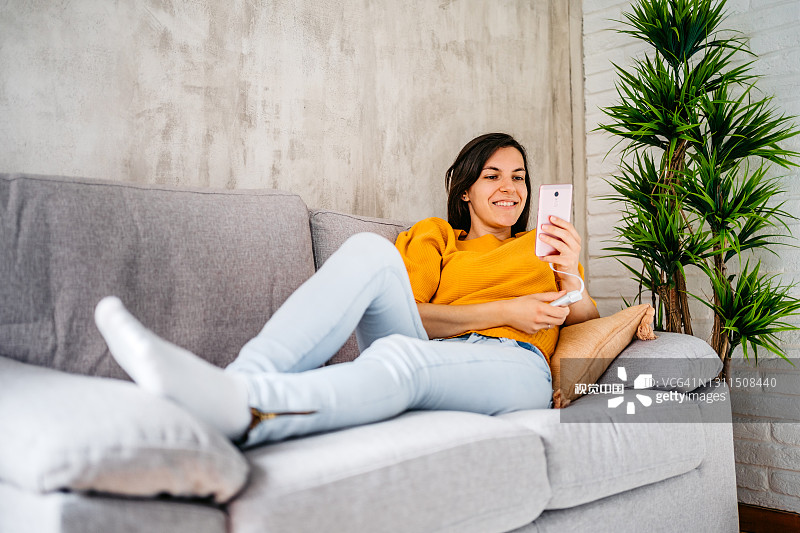no-phone: (497, 283, 589, 342)
reading: (529, 181, 590, 281)
